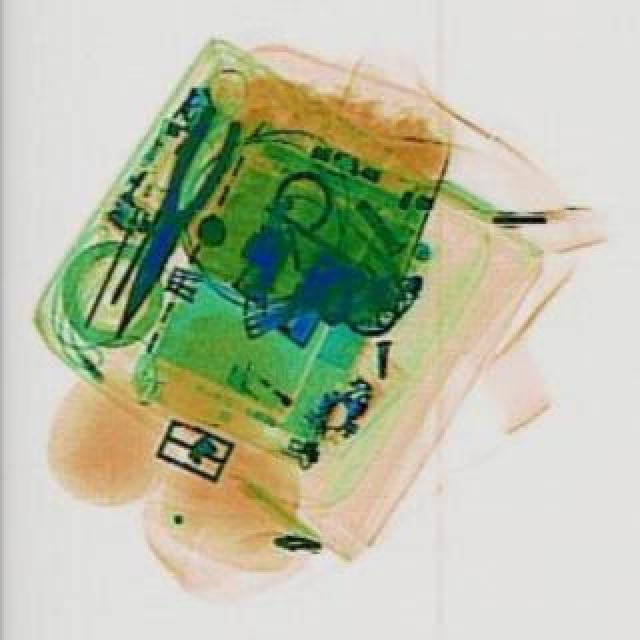wrench: (86, 98, 250, 346)
